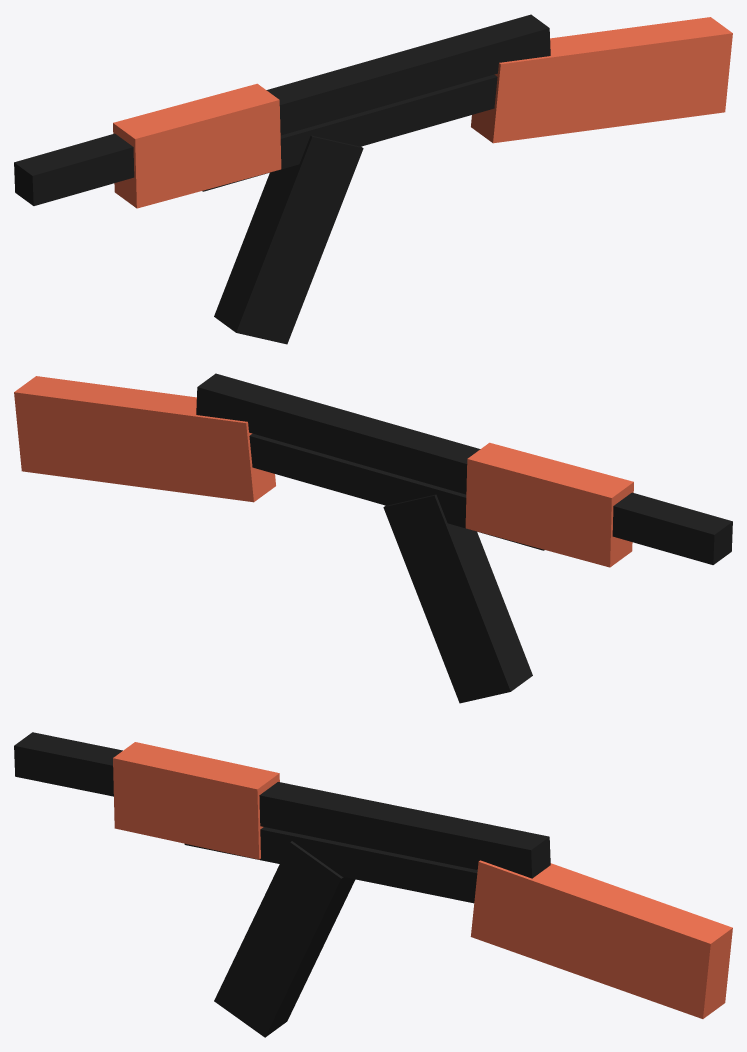
The model's file is machine gun.FBX.
3 renders of one model, top to bottom at view 1: azimuth 30°, elevation 25°; view 2: azimuth 150°, elevation 25°; view 3: azimuth 330°, elevation 25°, orthographic.
Visible parts, largest first — view 1: Box012, Box009, Box013, Box010, Box011; view 2: Box012, Box009, Box013, Box010, Box011; view 3: Box012, Box009, Box010, Box013, Box011.
Boxes of the visible parts, <box> form: Box012: <box>471,17,732,143</box>; Box009: <box>14,14,550,205</box>; Box013: <box>214,135,363,344</box>; Box010: <box>113,83,281,208</box>; Box011: <box>202,74,497,191</box>; Box012: <box>14,376,275,502</box>; Box009: <box>196,373,732,564</box>; Box013: <box>383,494,532,703</box>; Box010: <box>465,442,633,567</box>; Box011: <box>249,433,544,550</box>; Box012: <box>470,860,732,1018</box>; Box009: <box>14,732,550,878</box>; Box010: <box>113,742,279,859</box>; Box013: <box>214,841,355,1037</box>; Box011: <box>184,827,477,903</box>.
Bounding box in the file's own units: 13.19 × 4.52 × 0.7268.
